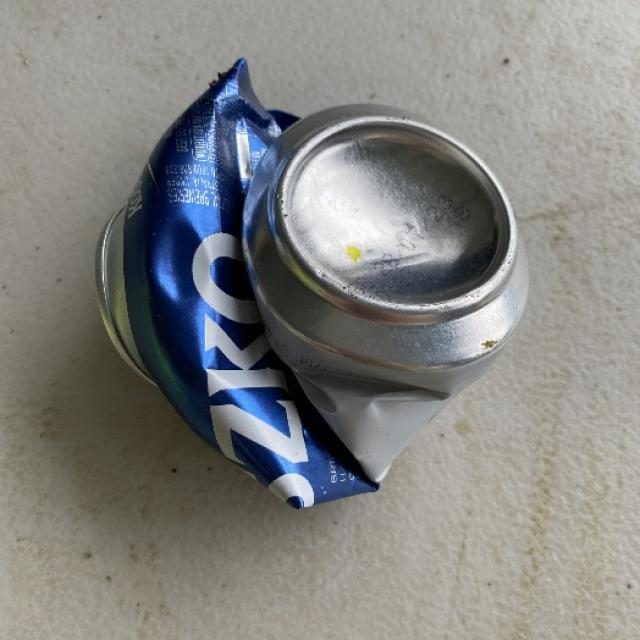inorganic: (96, 43, 544, 533)
